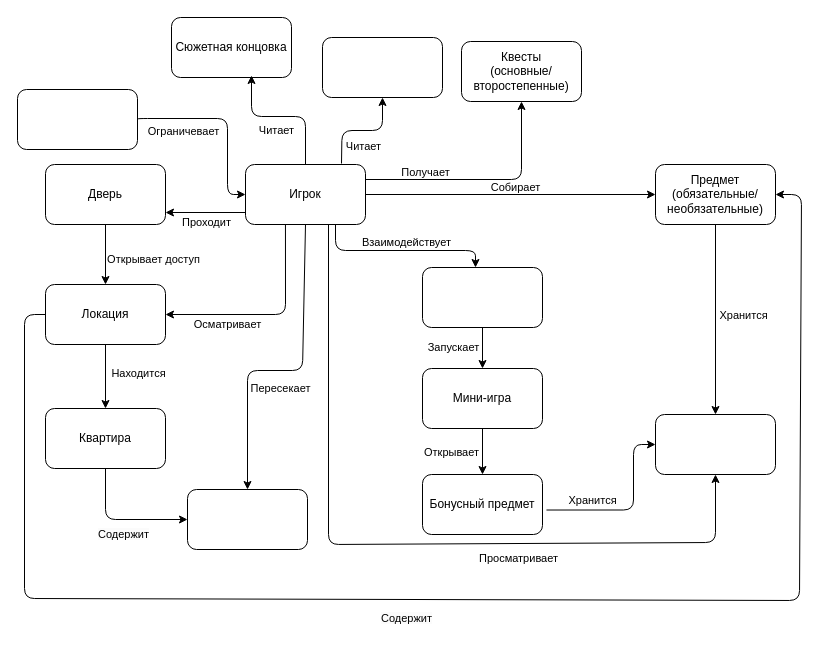
The diagram is 827 pixels wide and 658 high, and some of its shapes have lost their labels. The box of each missing label's shape, as (x1, y1, x2, y2) in pixels:
Выход: (186, 488, 308, 550)
Инвентарь: (654, 414, 776, 474)
Пузырь: (322, 36, 442, 98)
Таймер: (16, 88, 138, 150)
Функциональный предмет: (422, 266, 542, 328)
